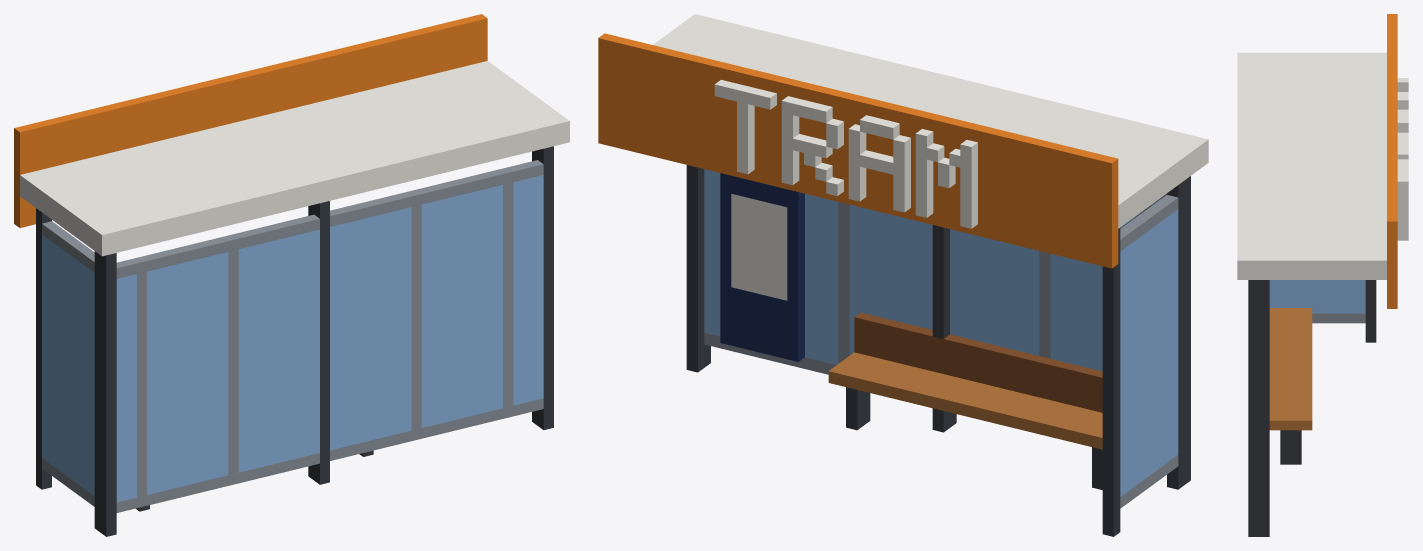
File: tram_shelter.glb
3 views of the same model, side by side, from view 1: azimuth 30°, elevation 25°; view 2: azimuth 150°, elevation 25°; view 3: azimuth 270°, elevation 25° (orthographic). The views are drawn at different scales.
Visible parts, largest first — view 1: shelter; view 2: shelter; view 3: shelter.
Boxes of the visible parts, box(x1,y1,x2,y2) form: shelter: box(14, 14, 569, 536); shelter: box(598, 14, 1208, 536); shelter: box(1237, 14, 1408, 536).
Bounding box in the file's own units: 4.6 × 3.3 × 1.6.
